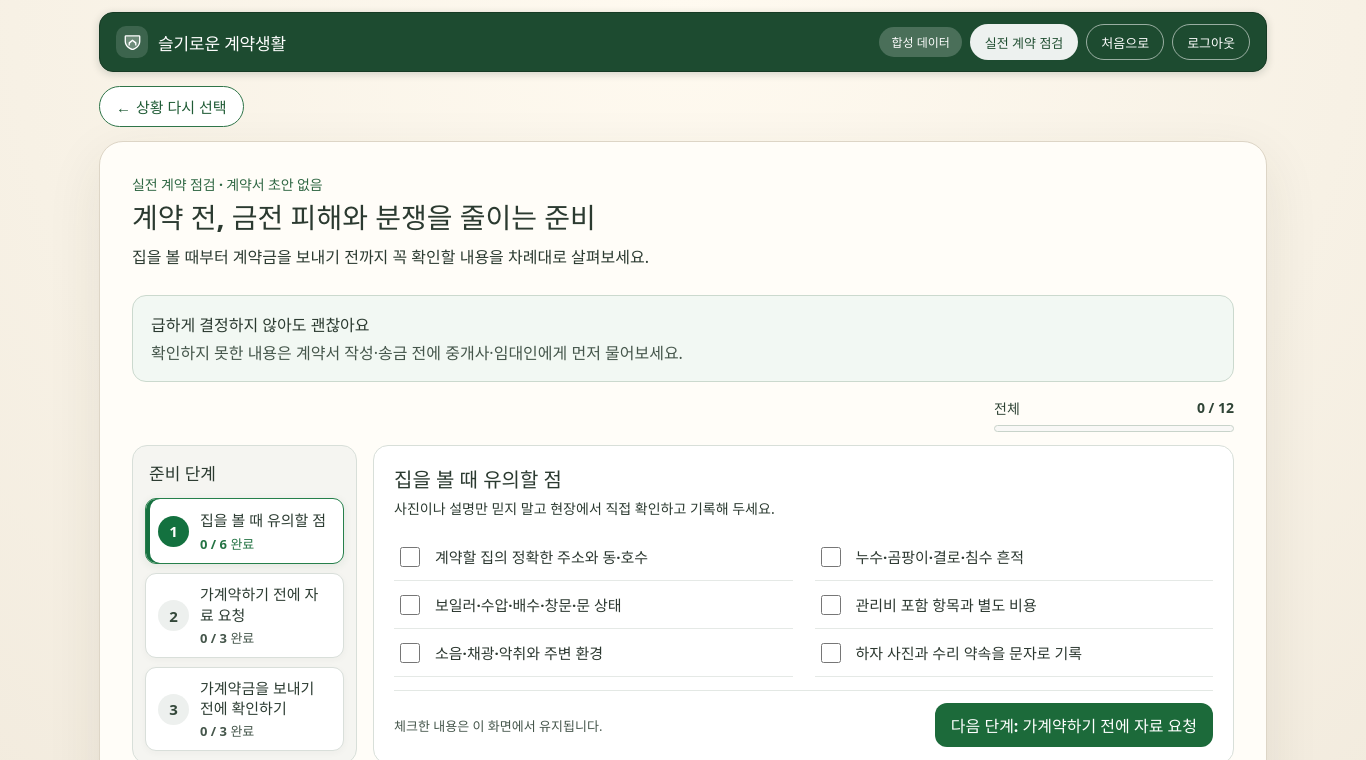
Test: ContractPreparationPage › offers preparation actions without creating a contract
Expected: the heading "계약 전, 금전 피해와 분쟁을 줄이는 준비" is shown, [132, 198, 596, 236]
Expected: the text "급하게 결정하지 않아도 괜찮아요" is shown, [151, 314, 370, 336]
What coordinates should you click on to do the following:
click the button "2 가계약하기 전에 자료 요청 0 / 3 완료"
I would click on:
 (244, 616)
Its box is [145, 573, 344, 658].
(page scrolled)
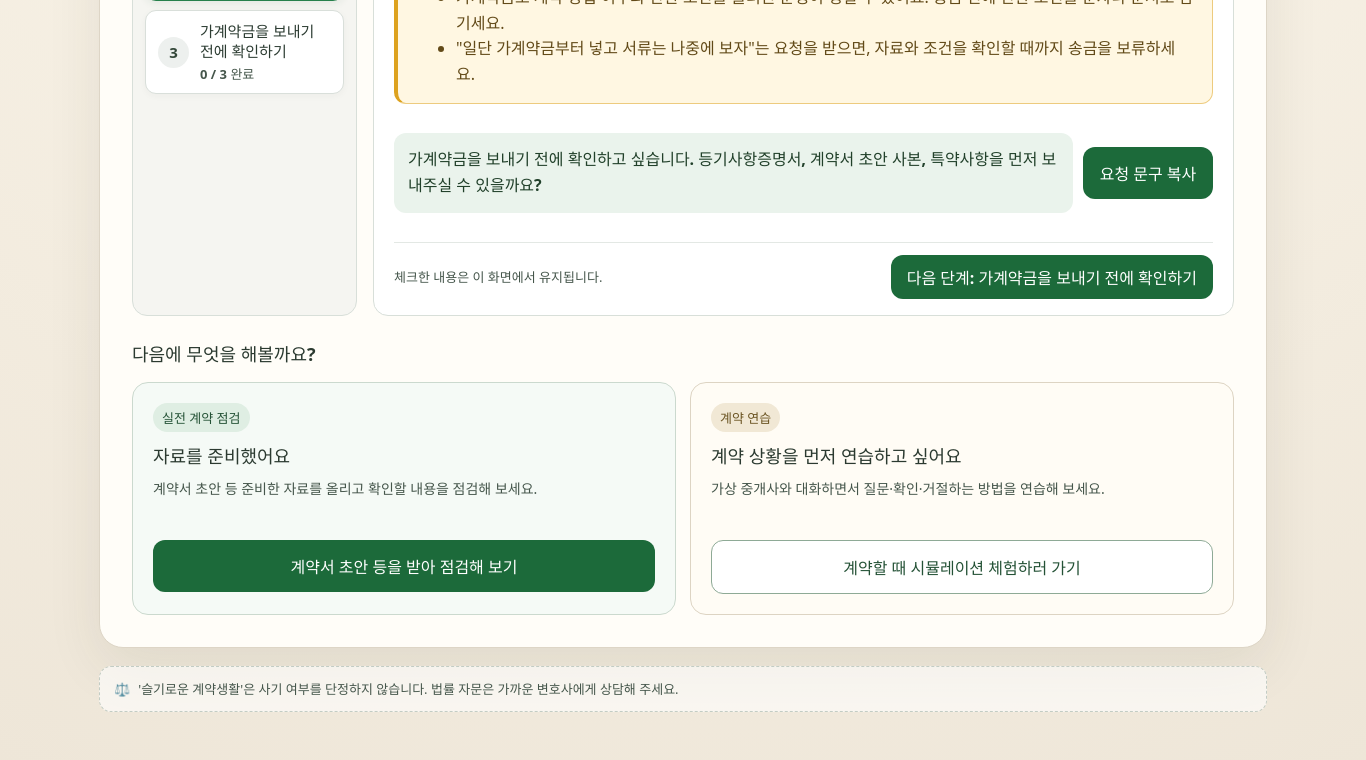
Expected: the button "3 가계약금을 보내기 전에 확인하기 0 / 3 완료" is shown, [145, 10, 344, 94]
Now the list item "자료와 조건을 확인할 때까지 송금을 보류" is shown, box [456, 37, 1175, 85]
